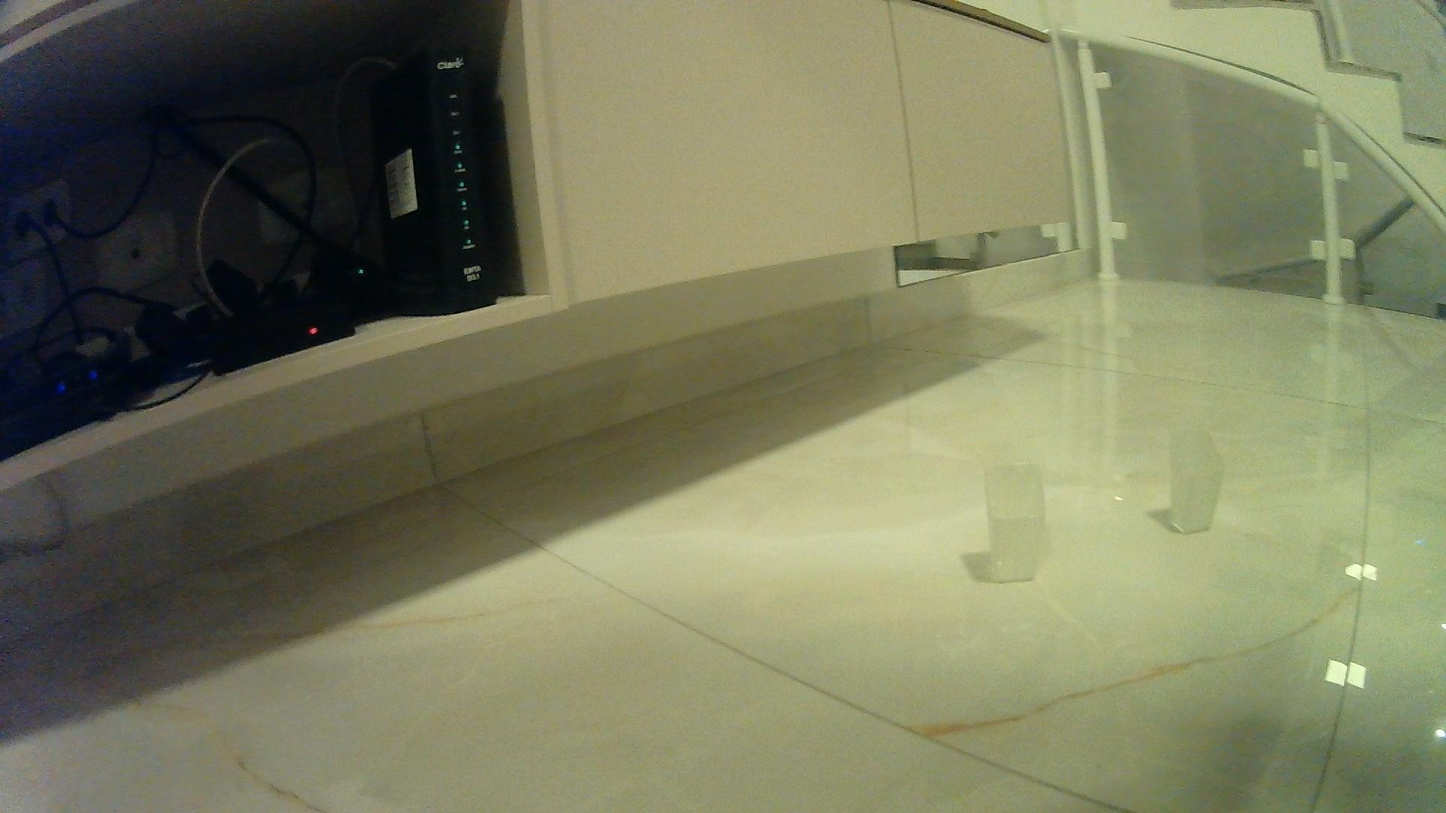erva_daninha: (979, 461, 1053, 587), (1158, 425, 1234, 540)
